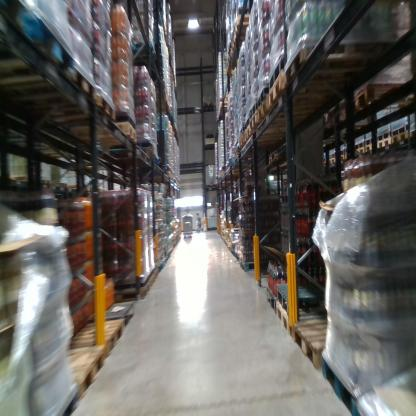pallet: (0, 7, 83, 86), (286, 39, 384, 91), (7, 93, 129, 129), (286, 306, 348, 376), (345, 76, 415, 128), (268, 67, 351, 108), (317, 345, 363, 415), (258, 92, 353, 125), (49, 342, 106, 397), (62, 315, 126, 362), (276, 275, 340, 321), (57, 116, 141, 146), (75, 56, 113, 109), (247, 106, 314, 135), (245, 116, 316, 140), (90, 296, 136, 325), (41, 381, 81, 414), (99, 281, 150, 303), (120, 38, 160, 60), (231, 7, 257, 40), (237, 128, 262, 153), (273, 300, 289, 337), (237, 258, 269, 275), (390, 126, 409, 151), (264, 287, 273, 319), (377, 135, 390, 154), (218, 97, 231, 113), (266, 152, 274, 171), (355, 144, 364, 160), (345, 151, 355, 163), (365, 143, 378, 152), (335, 155, 345, 164), (327, 154, 336, 164)
